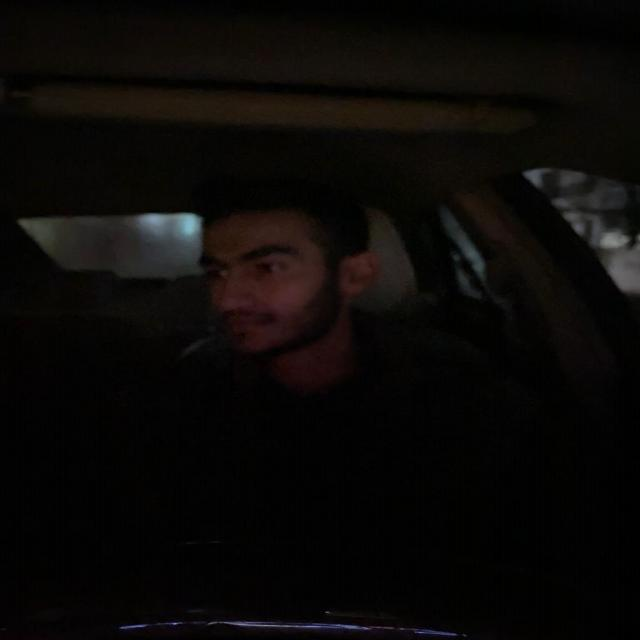person: (192, 180, 388, 376)
